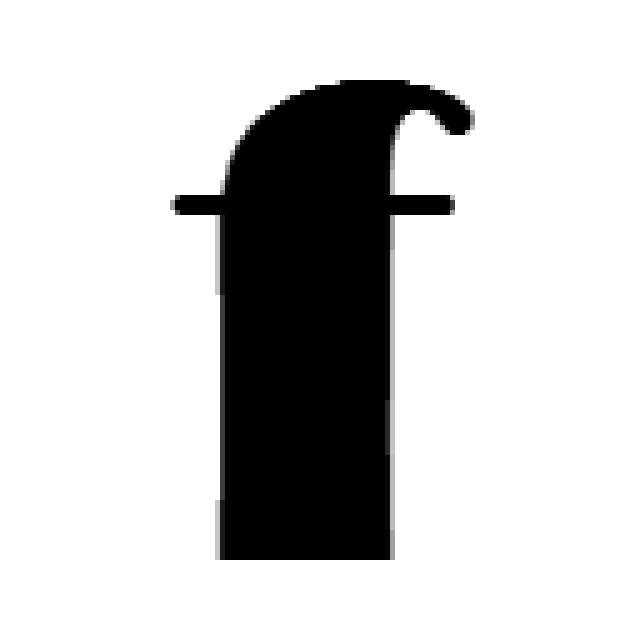F: (170, 80, 475, 565)
